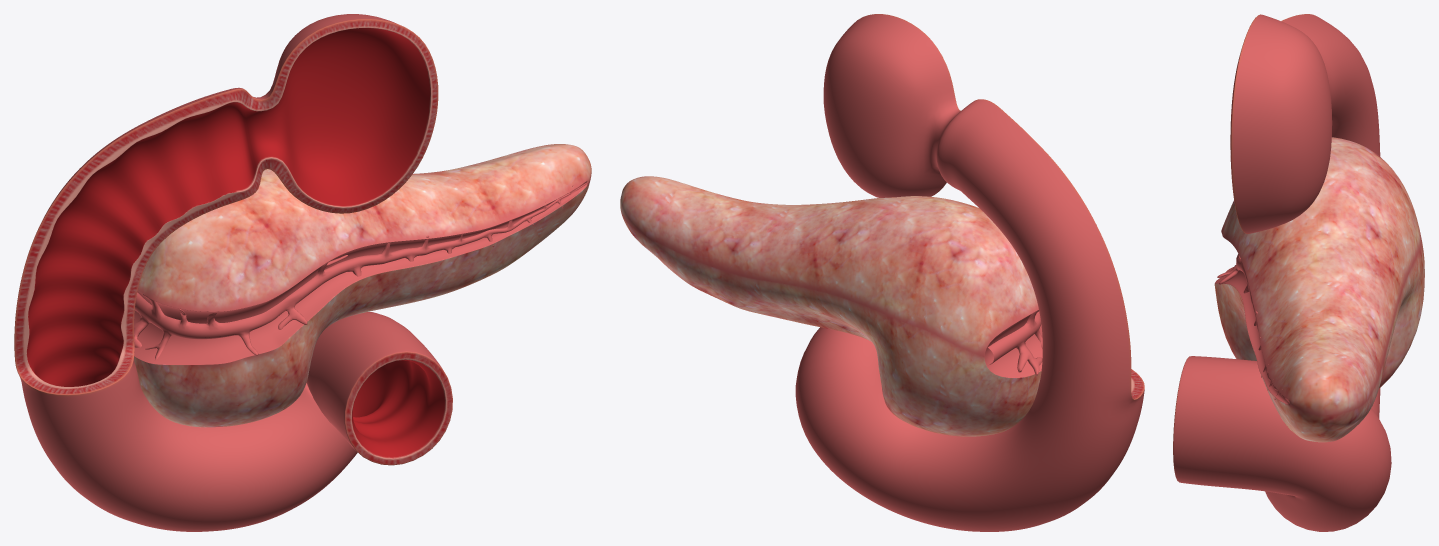
The model's file is human_pancreas_cross_section.glb.
3 views of the same model, side by side, from view 1: azimuth 30°, elevation 25°; view 2: azimuth 150°, elevation 25°; view 3: azimuth 270°, elevation 25° (orthographic). The views are drawn at different scales.
Visible parts, largest first — view 1: pCube3, polySurface1, sweep1; view 2: pCube3, polySurface1, sweep1; view 3: pCube3, polySurface1, sweep1.
Part boxes in pixels (x1,y1,x2,y2): pCube3: (14, 14, 452, 531); polySurface1: (134, 144, 591, 427); sweep1: (134, 182, 588, 359); pCube3: (795, 14, 1144, 531); polySurface1: (620, 176, 1042, 436); sweep1: (988, 310, 1042, 375); pCube3: (1173, 14, 1391, 531); polySurface1: (1214, 137, 1424, 442); sweep1: (1217, 253, 1289, 403).
Size of the model in its own units: 0.1967 by 0.1682 by 0.0726.
1 material, 1 textured.
